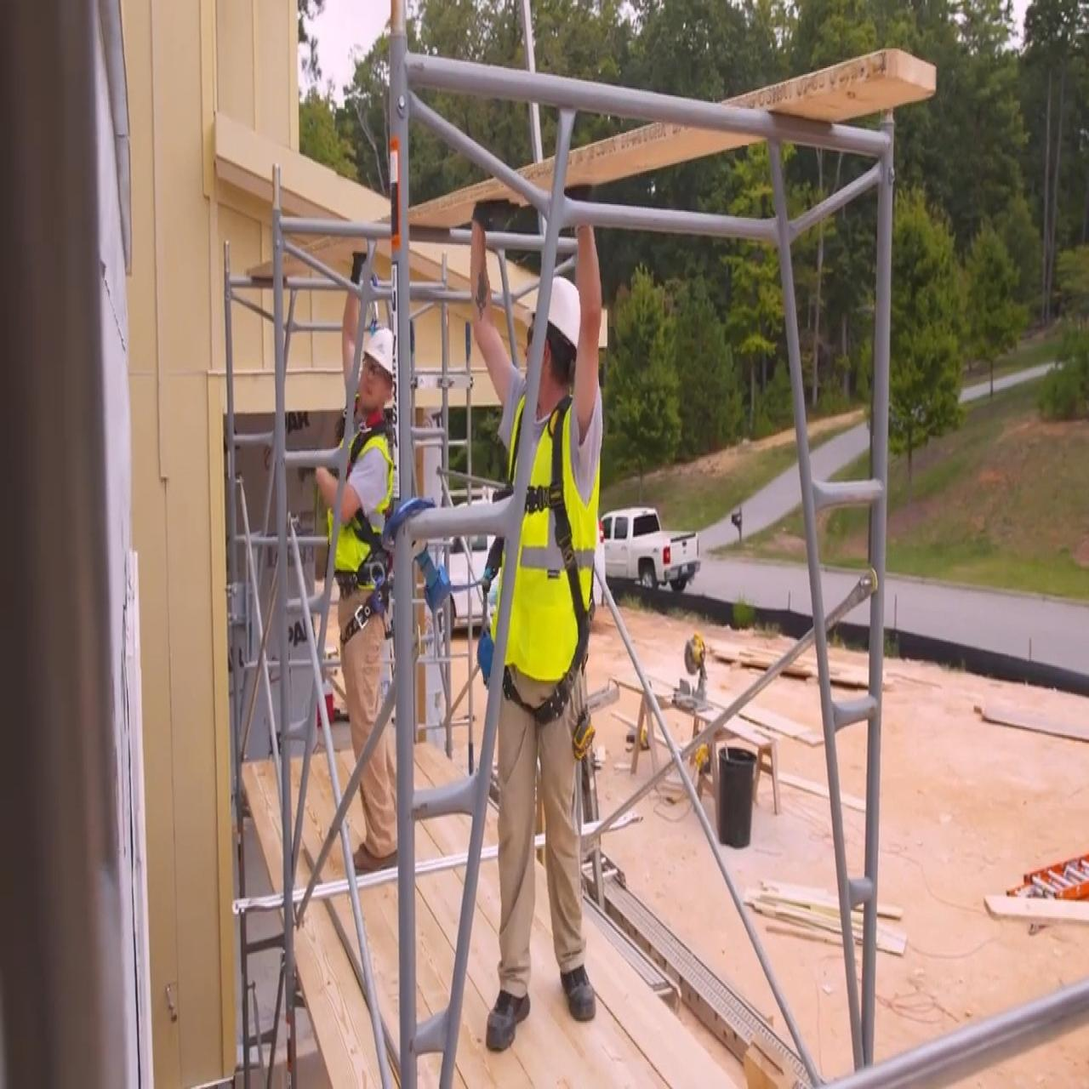Person: (468, 181, 605, 1052), (299, 251, 397, 878)
Safety_Vest: (491, 395, 600, 680), (326, 410, 394, 571)
